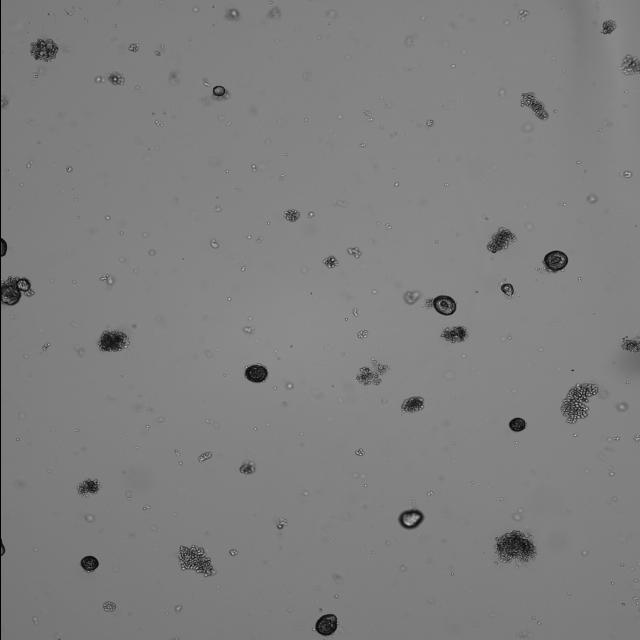alive: (310, 614, 342, 638), (429, 292, 457, 318), (540, 248, 568, 274), (240, 362, 268, 384), (396, 508, 424, 530), (503, 416, 528, 434), (77, 554, 99, 574), (498, 282, 516, 298), (210, 84, 227, 100)
dead: (172, 541, 219, 582), (560, 381, 600, 425), (491, 529, 537, 567), (515, 89, 551, 123), (351, 358, 391, 388), (483, 224, 517, 256), (93, 326, 129, 356), (435, 322, 471, 348), (26, 36, 58, 64), (396, 391, 428, 416), (73, 475, 100, 498), (106, 68, 126, 92), (342, 242, 364, 260), (282, 207, 302, 226), (596, 18, 614, 36), (322, 255, 339, 270)
